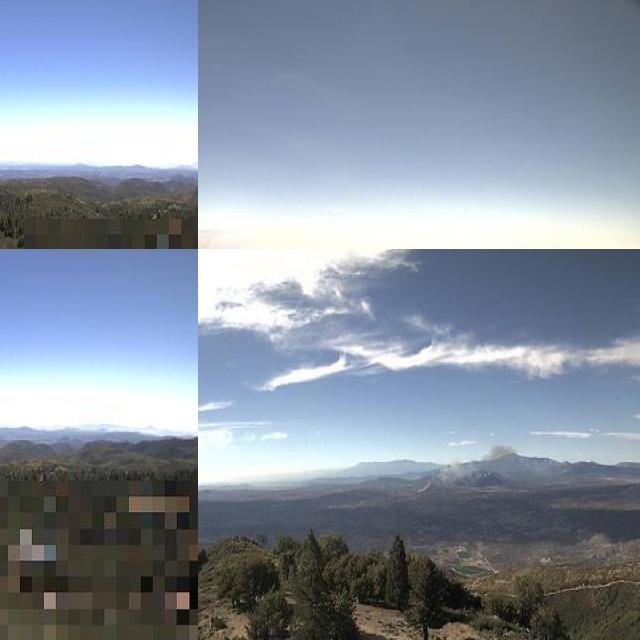smoke: (416, 439, 525, 497), (198, 218, 237, 249)
